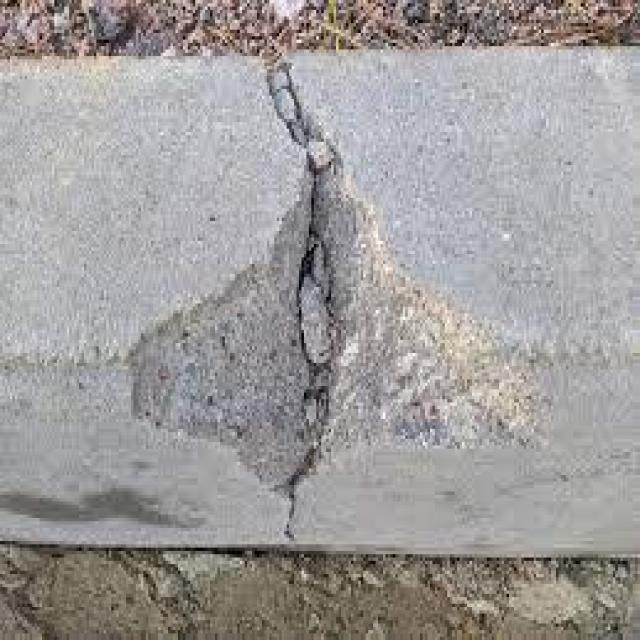curb: (6, 47, 638, 575)
